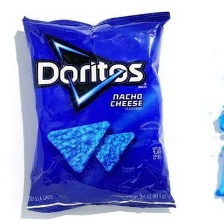snack: (12, 6, 182, 217)
